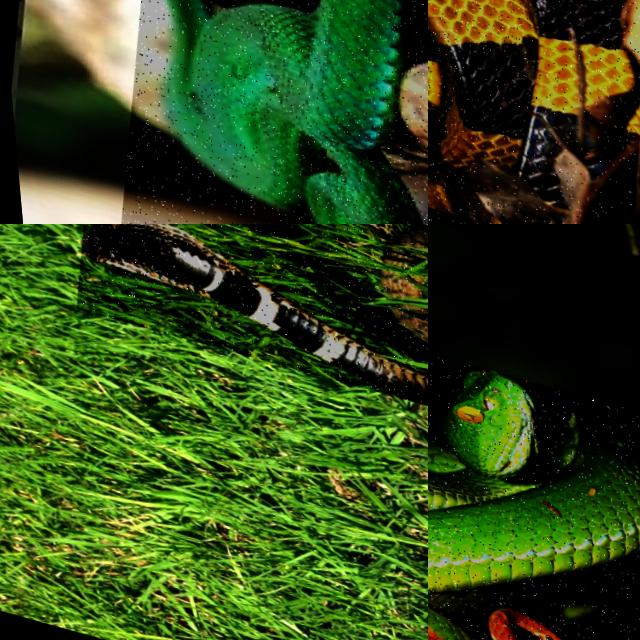Bungarus fasciatus: (428, 0, 637, 202)
Naja siamensis: (83, 224, 427, 405)
Trimeresurus macrops: (164, 0, 422, 223), (428, 371, 639, 592)
